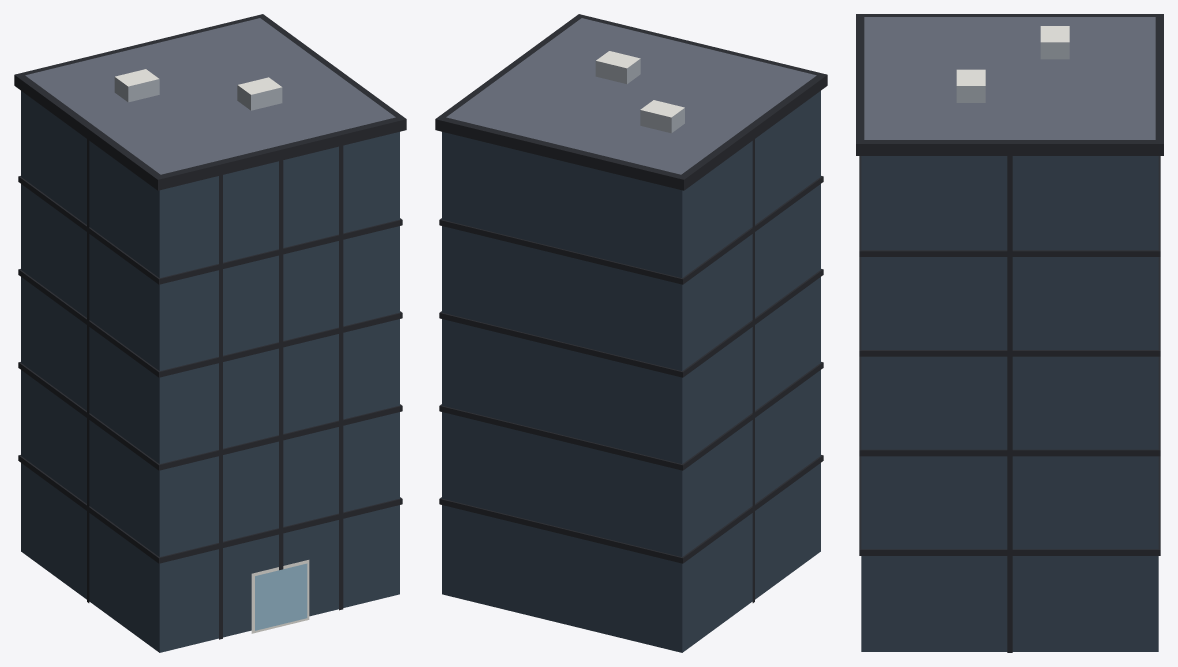
File: B_Office.fbx
3 views of the same model, side by side, from view 1: azimuth 30°, elevation 25°; view 2: azimuth 150°, elevation 25°; view 3: azimuth 270°, elevation 25° (orthographic). The views are drawn at different scales.
Parts seen in each view (by area): view 1: B_Office.001; view 2: B_Office.001; view 3: B_Office.001.
Boxes of the visible parts, bbox=[...] form: B_Office.001: bbox=[14, 14, 406, 652]; B_Office.001: bbox=[435, 14, 827, 652]; B_Office.001: bbox=[856, 14, 1163, 652].
Size of the model in its own units: 4.76 by 9.05 by 4.76.
